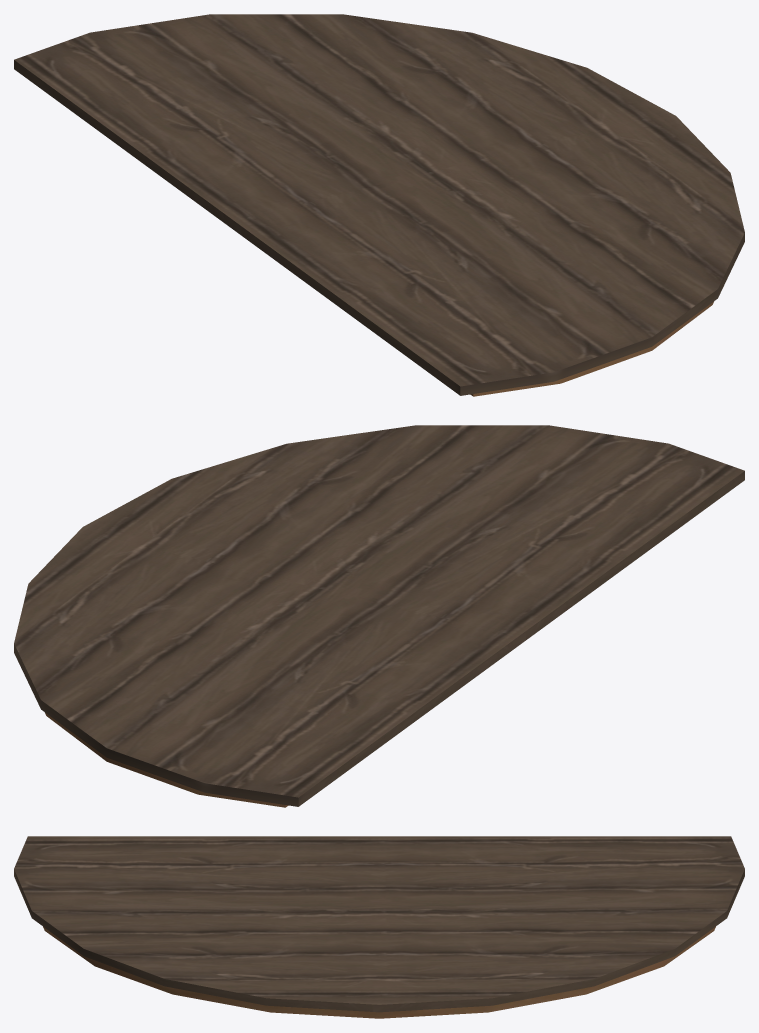
File: stage floor.fbx
3 views of the same model, one above another, from view 1: azimuth 30°, elevation 25°; view 2: azimuth 150°, elevation 25°; view 3: azimuth 270°, elevation 25° (orthographic). The views are drawn at different scales.
Parts seen in each view (by area): view 1: polySurface641; view 2: polySurface641; view 3: polySurface641.
Boxes of the visible parts, x1,y1,x2,y2 form: polySurface641: (14, 14, 744, 396); polySurface641: (14, 425, 744, 807); polySurface641: (14, 836, 744, 1018).
Size of the model in its own units: 392 by 18.32 by 718.
Materials: 2 (2 with a texture image).
